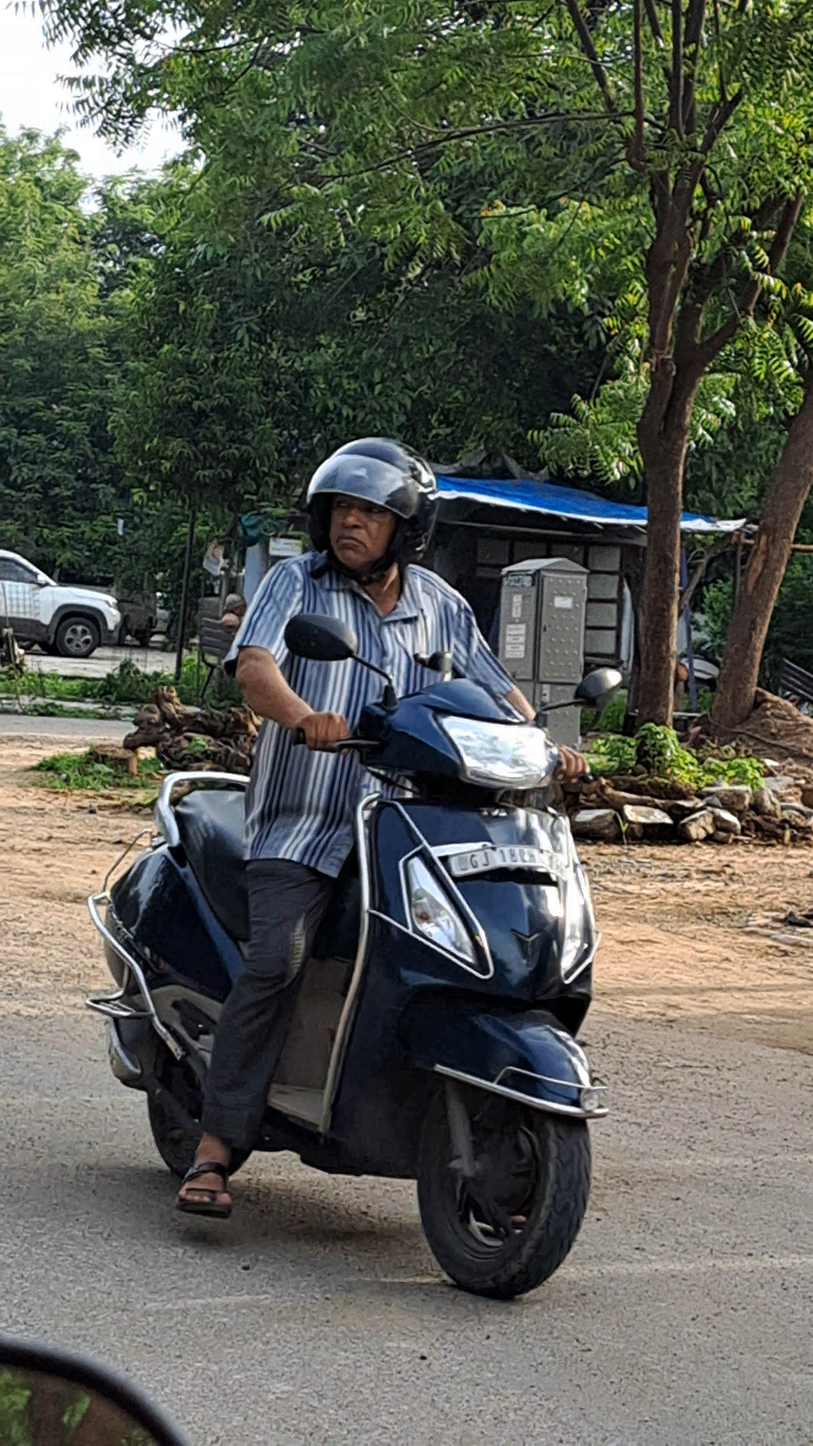BikeWithRider: (65, 426, 638, 1303)
Helmet: (290, 426, 440, 596)
